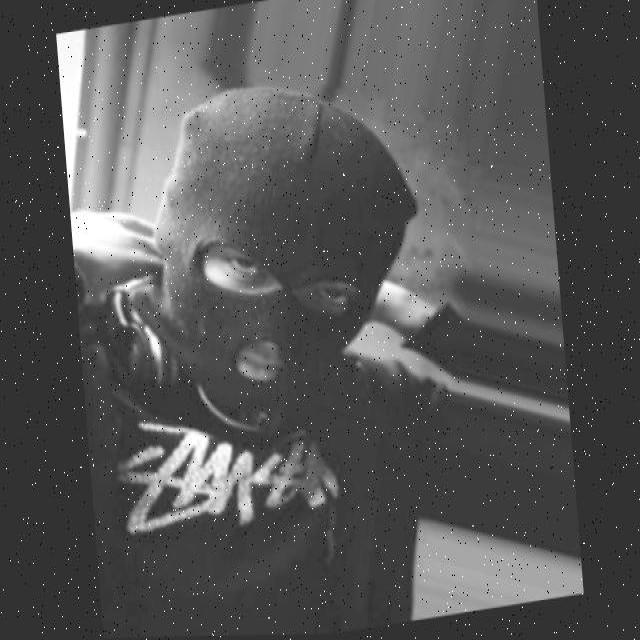6_pasamontana: (152, 84, 420, 432)
